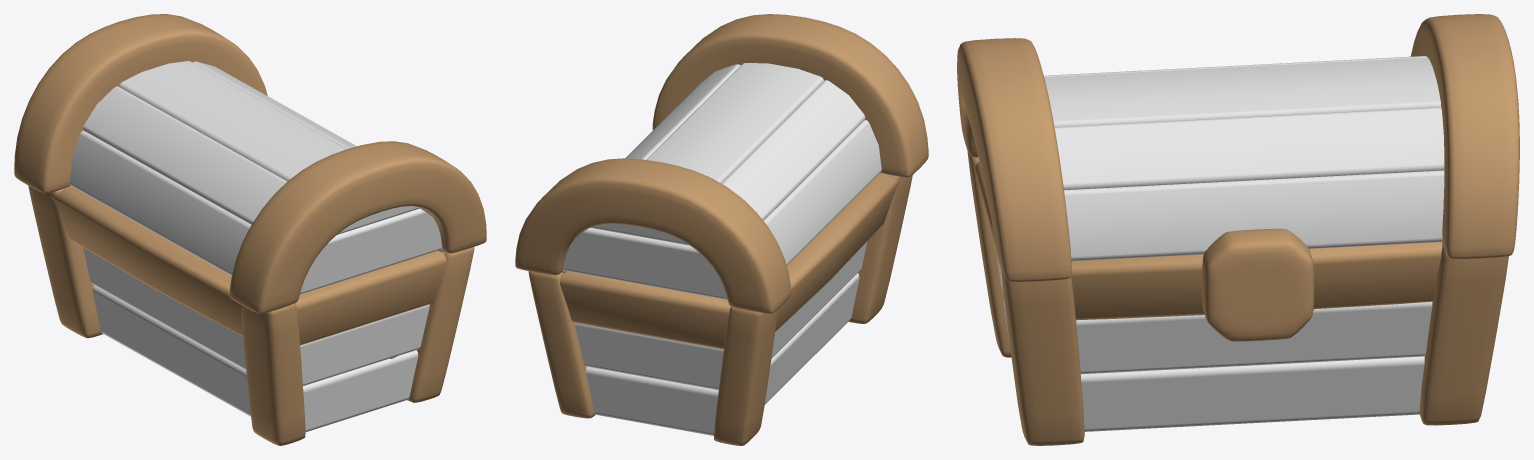
Rendered from Chesttest1.fbx.
3 views of the same model, side by side, from view 1: azimuth 30°, elevation 25°; view 2: azimuth 150°, elevation 25°; view 3: azimuth 270°, elevation 25° (orthographic). The views are drawn at different scales.
Visible parts, largest first — view 1: Plane.003, Plane.002, Plane, Plane.004, Plane.001; view 2: Plane.002, Plane.003, Plane, Plane.001, Plane.004; view 3: Plane.003, Plane.002, Plane, Plane.001, Plane.004, Plane.005.
Boxes of the visible parts, left/top/right/bottom form: Plane.003: left=69, top=61, right=443, bottom=294; Plane.002: left=14, top=14, right=486, bottom=313; Plane: left=83, top=247, right=429, bottom=431; Plane.004: left=50, top=186, right=446, bottom=345; Plane.001: left=28, top=186, right=474, bottom=445; Plane.002: left=515, top=14, right=928, bottom=313; Plane.003: left=561, top=63, right=881, bottom=299; Plane: left=575, top=241, right=867, bottom=435; Plane.001: left=528, top=174, right=912, bottom=445; Plane.004: left=560, top=172, right=900, bottom=349; Plane.003: left=1044, top=56, right=1444, bottom=260; Plane.002: left=957, top=14, right=1519, bottom=281; Plane: left=997, top=257, right=1432, bottom=431; Plane.001: left=967, top=151, right=1508, bottom=445; Plane.004: left=974, top=161, right=1442, bottom=320; Plane.005: left=1202, top=228, right=1314, bottom=341.
Size of the model in its own units: 167 by 150 by 227.
